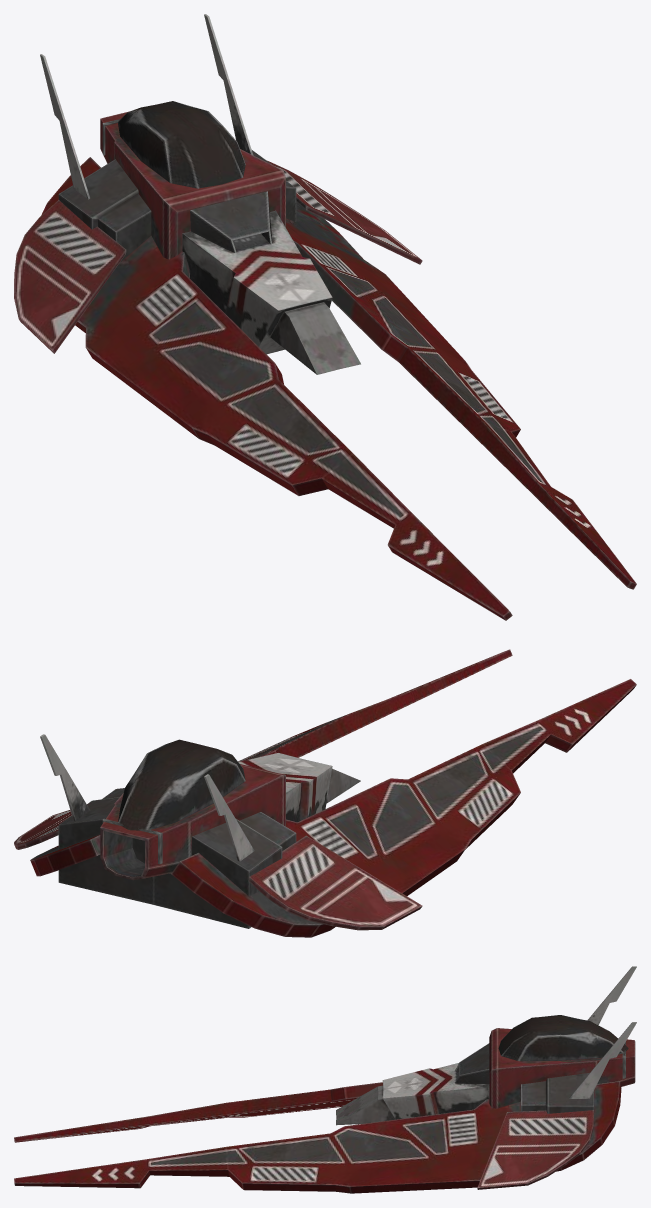
File: dispatcher_red.glb
The picture shows the model from 3 angles, top to bottom: view 1: azimuth 30°, elevation 25°; view 2: azimuth 150°, elevation 25°; view 3: azimuth 270°, elevation 25°; orthographic projection. The views are drawn at different scales.
Visible parts, largest first — view 1: dispatcher; view 2: dispatcher; view 3: dispatcher.
Part boxes in pixels (bbox=[...]): dispatcher: bbox=[14, 14, 636, 620]; dispatcher: bbox=[14, 649, 636, 937]; dispatcher: bbox=[14, 966, 636, 1193].
Size of the model in its own units: 4.9 by 3.09 by 10.26.
Materials: 1 (1 with a texture image).
